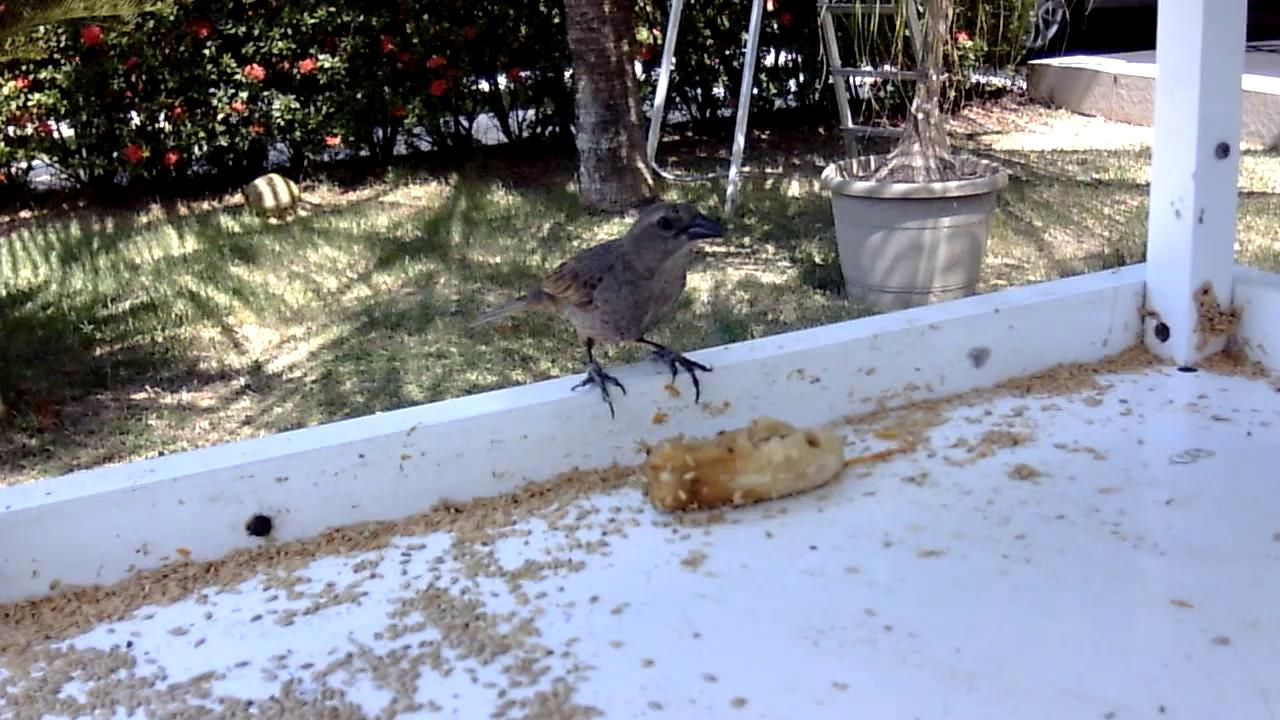chupim: (467, 199, 729, 424)
